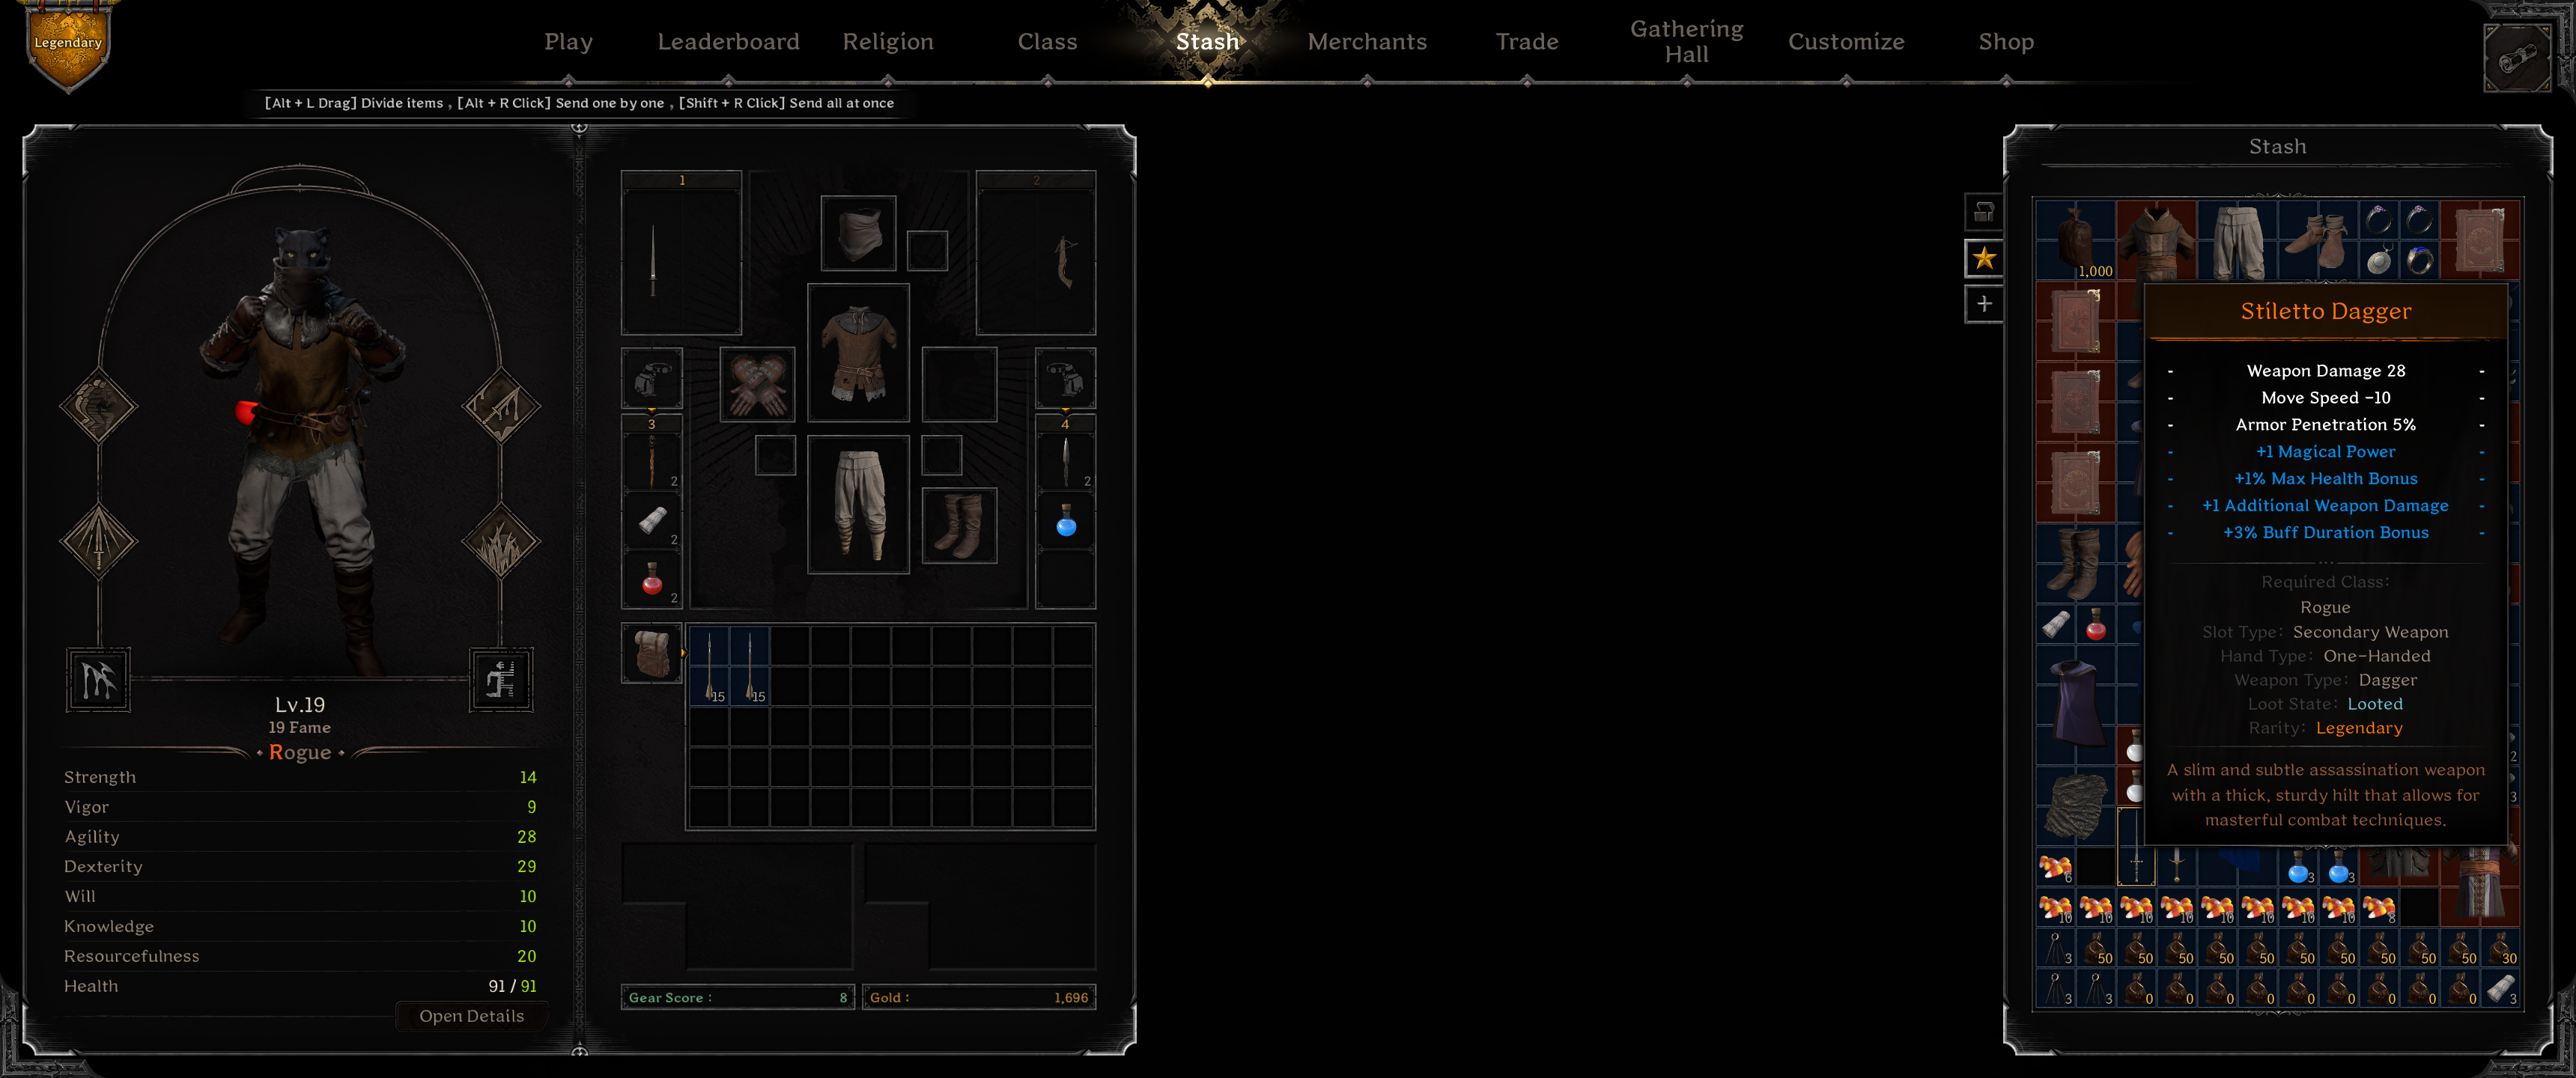Tooltip: (2144, 281, 2510, 848)
